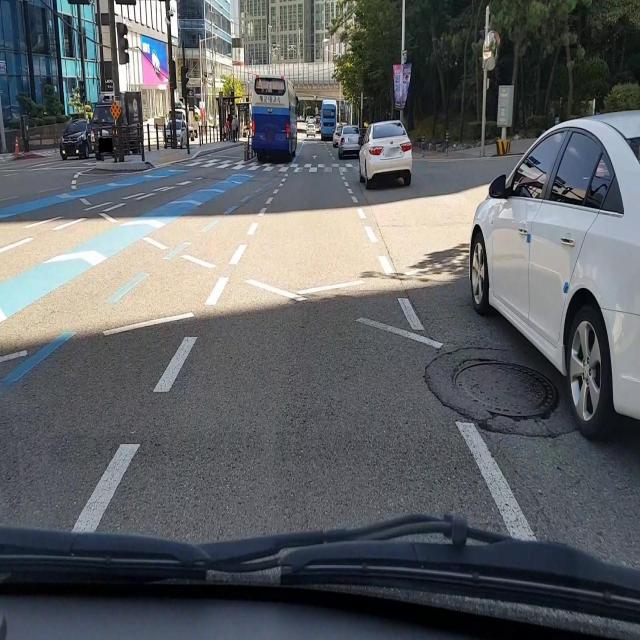Pothole: (449, 356, 562, 426)
